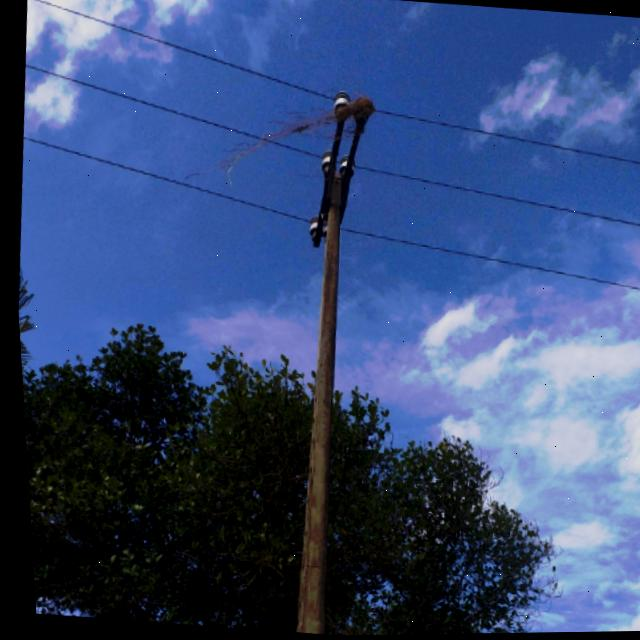obstruction: (221, 93, 375, 184)
poles: (277, 132, 359, 630)
wires: (34, 0, 331, 105), (26, 131, 300, 223), (352, 224, 640, 295), (360, 162, 640, 235), (26, 60, 255, 139), (379, 107, 640, 171), (273, 142, 320, 163)
